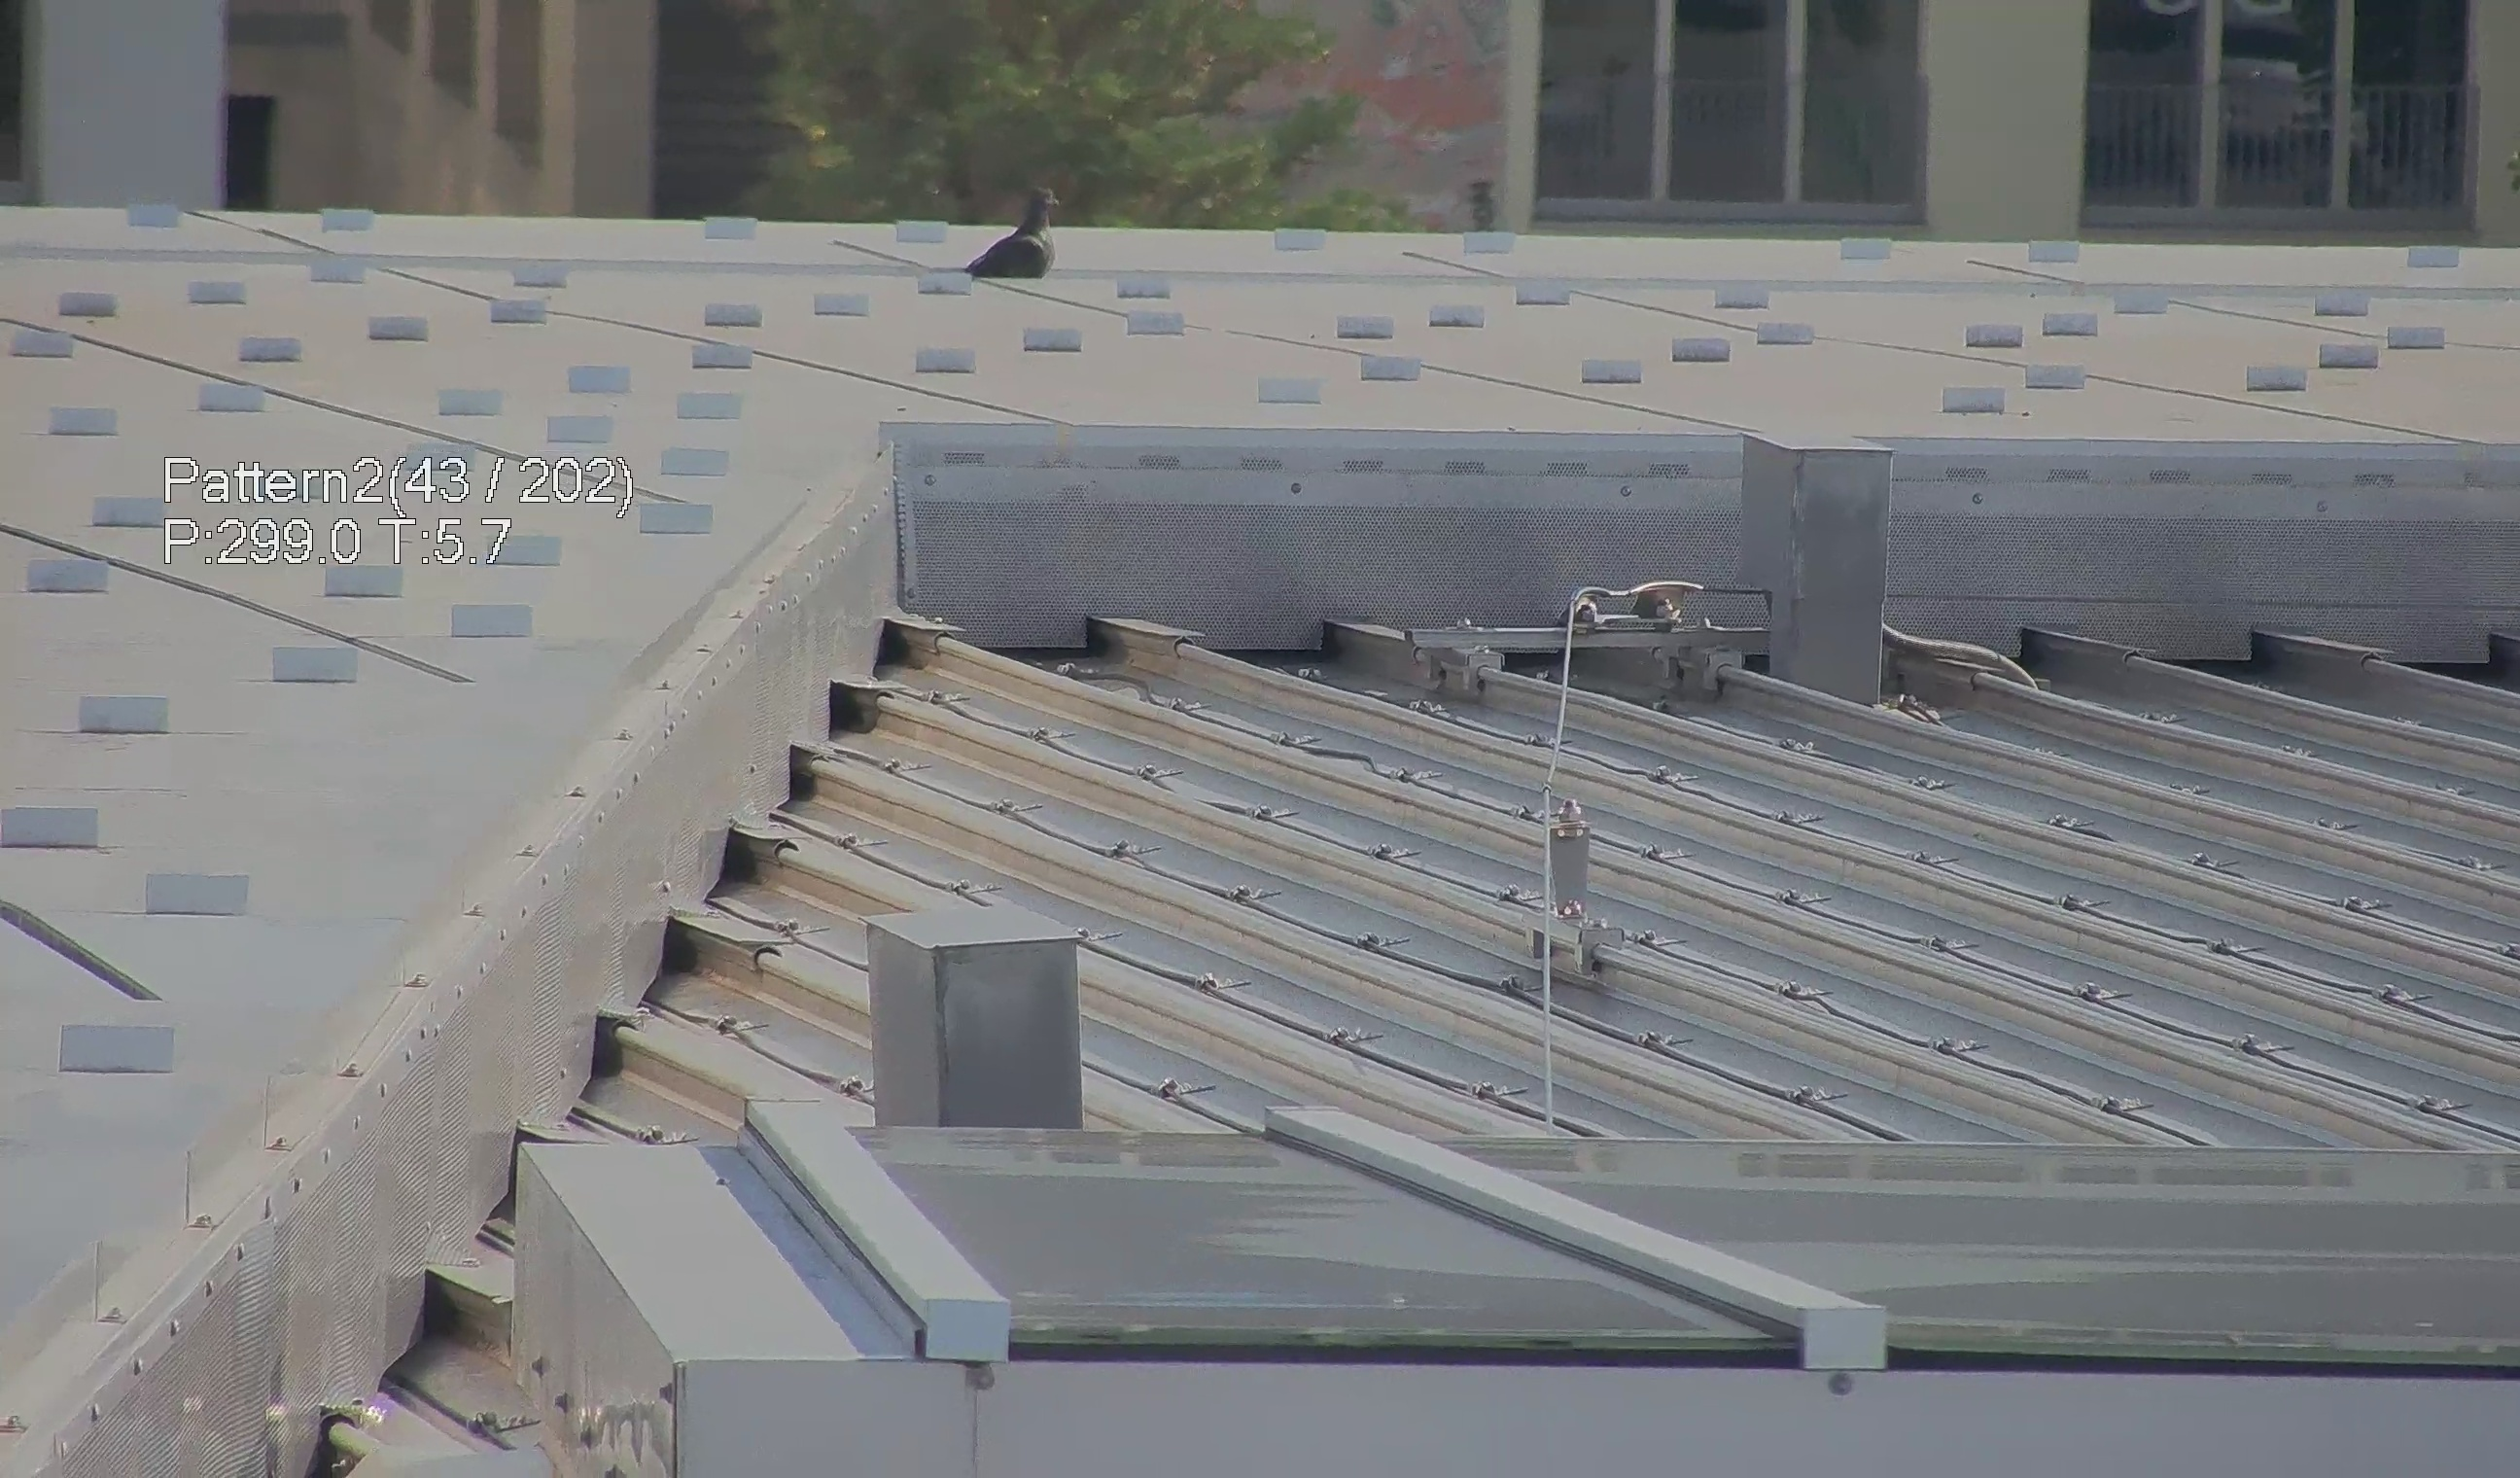Pigeon: (950, 176, 1057, 287)
